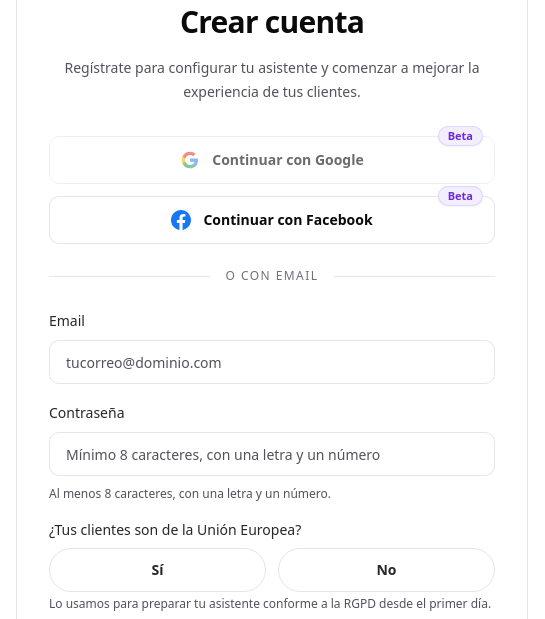
Scenario: RegisterPage › muestra el primer mensaje sin reventar cuando el backend devuelve un array de errores de Zod
Type "ana@example.com" into the field with placeholder "tucorreo@dominio.com".
click(272, 362); type("ana@example.com")  # box x1=49 y1=340 x2=495 y2=384
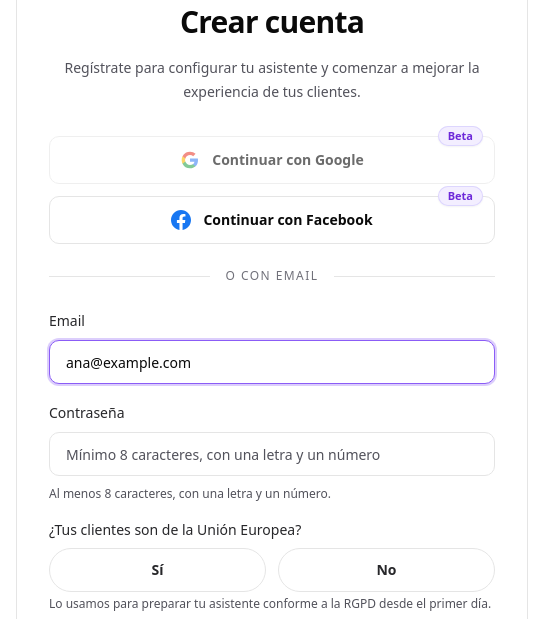
Type "password123" into the password field with placeholder "Mínimo 8 caracteres, con una letra y un número".
click(272, 454); type("password123")  # box x1=49 y1=432 x2=495 y2=476
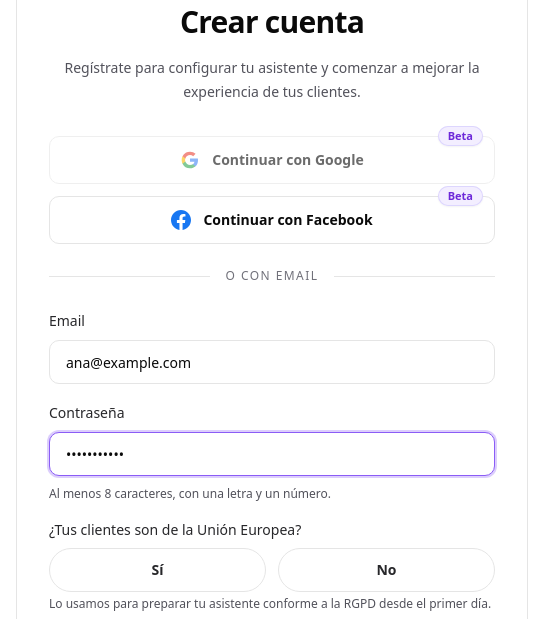
Click the radio button labelled "Sí".
click(158, 570)  # box x1=49 y1=548 x2=266 y2=592
(page scrolled)
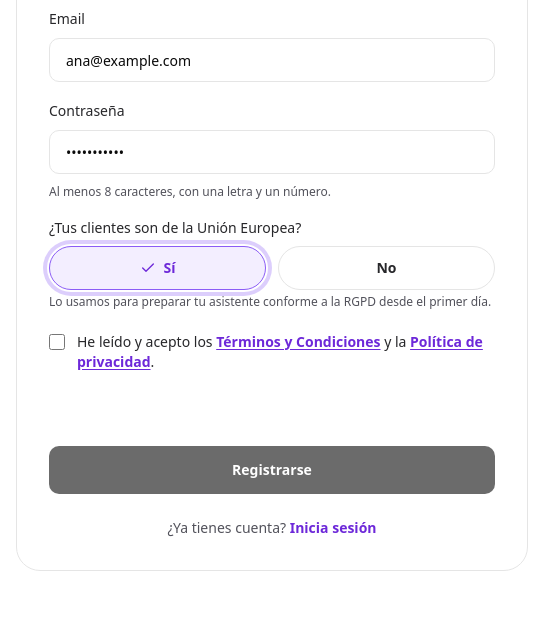
Click the checkbox.
click(57, 342)  # box x1=49 y1=334 x2=65 y2=350
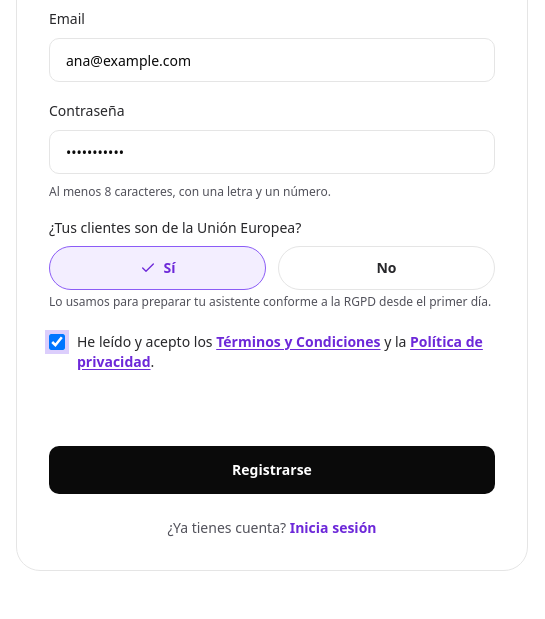
Click the button "Registrarse".
click(272, 470)  # box x1=49 y1=446 x2=495 y2=494
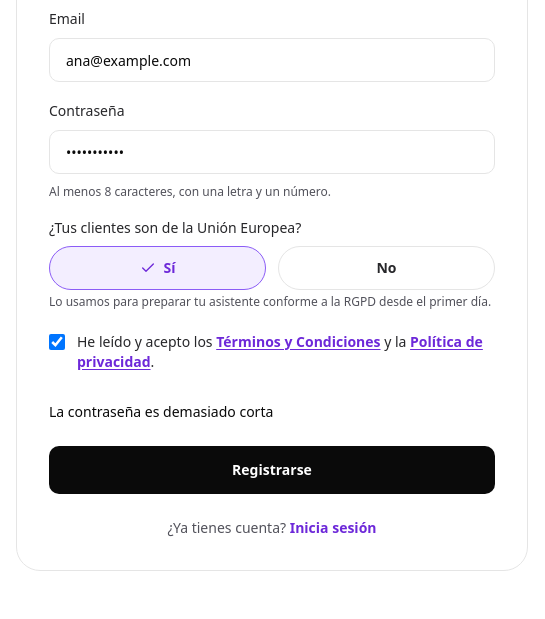
Result: the text "La contraseña es demasiado corta" is shown at x1=49 y1=402 x2=273 y2=421
